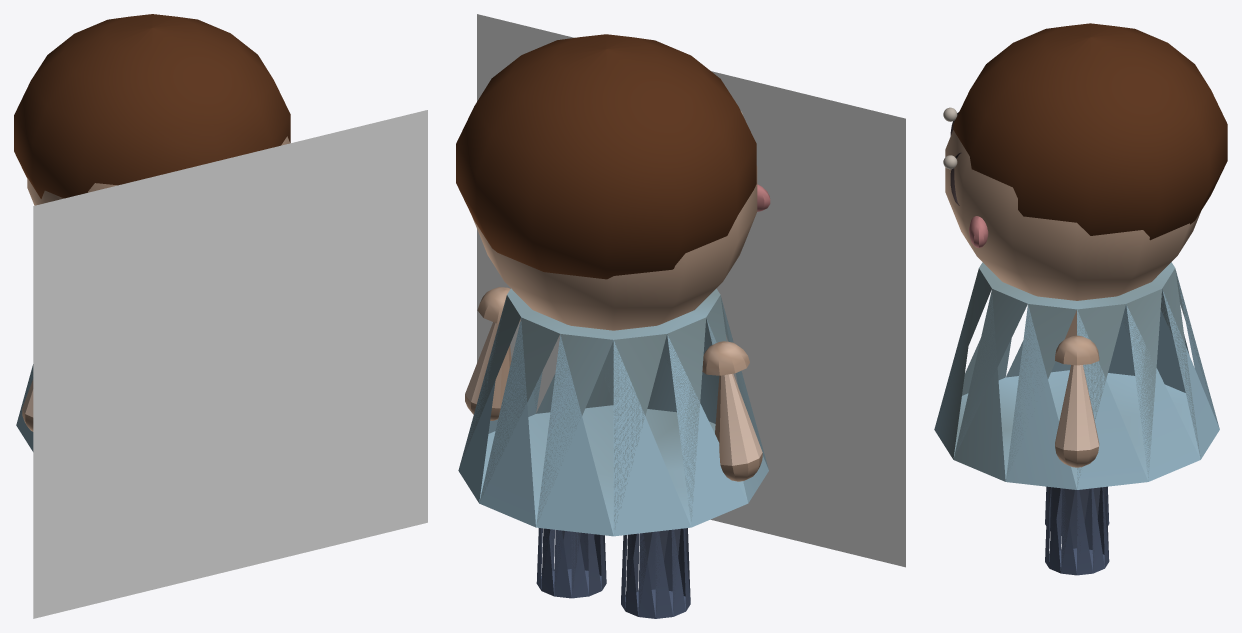
The picture shows the model from 3 angles, left to right: view 1: azimuth 30°, elevation 25°; view 2: azimuth 150°, elevation 25°; view 3: azimuth 270°, elevation 25°; orthographic projection. The views are drawn at different scales.
Visible parts, largest first — view 1: pet_p6a51277f; view 2: pet_p6a51277f; view 3: pet_p6a51277f.
Part boxes in pixels (x1,y1,x2,y2): pet_p6a51277f: (14, 14, 427, 618); pet_p6a51277f: (456, 14, 905, 618); pet_p6a51277f: (934, 23, 1227, 575).
Size of the model in its own units: 0.51 by 0.625 by 0.3287.
